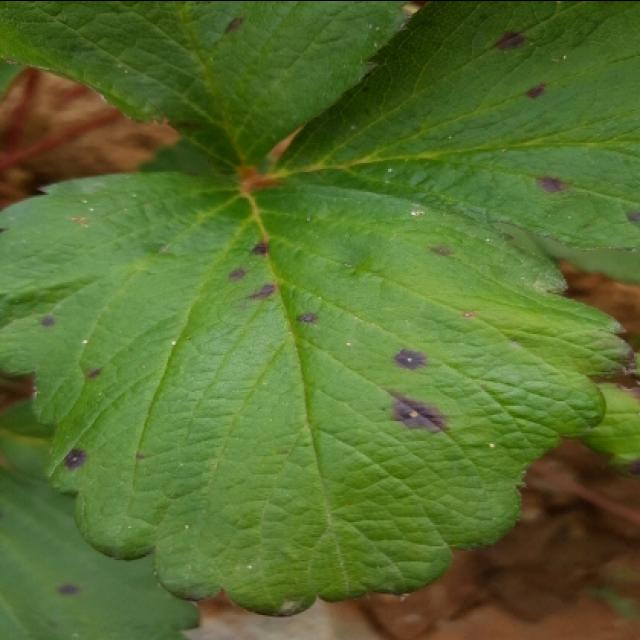Leaf Spot: (0, 170, 634, 617), (269, 0, 638, 283), (0, 393, 202, 638)
